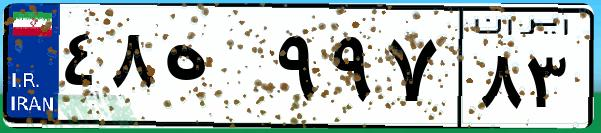3: (525, 38, 570, 115)
4: (57, 26, 110, 100)
7: (385, 28, 445, 110)
8: (475, 38, 525, 113), (110, 28, 158, 98)
9: (270, 28, 330, 110), (330, 28, 385, 110)
ه: (158, 20, 270, 120)
